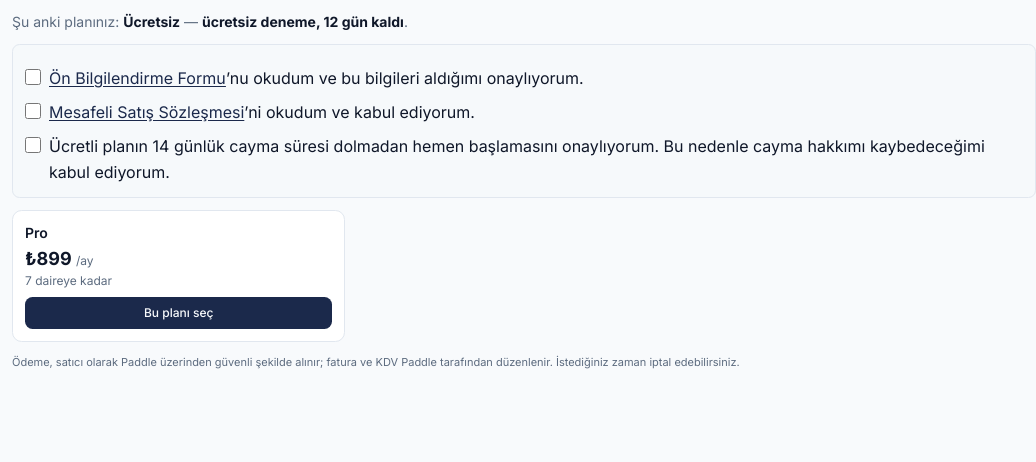
PaddlePlans — ödeme tamamlanınca anında doğrulama › 🚨 active → 'Planınız etkin.' + 'Panele dön' (/dashboard), sayfa BİR kez tazelenir, sorma durur, eski sinyal gitmez
The width and height of the screenshot is (1036, 462).
Click the 1st checkbox: x=33, y=77 [25,69,41,85]
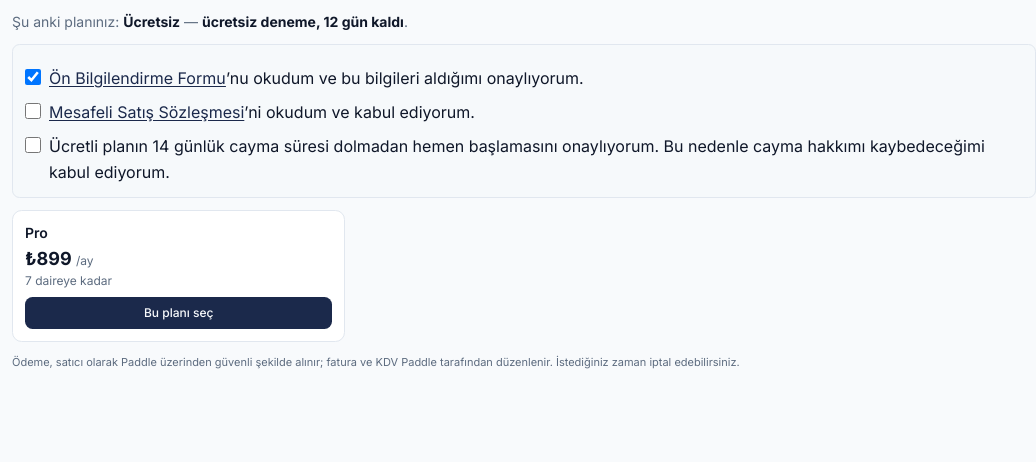
Click the checkbox labelled "Mesafeli Satış Sözleşmesi ’ni okudum ve kabul ediyorum.": x=33, y=111 [25,103,41,119]
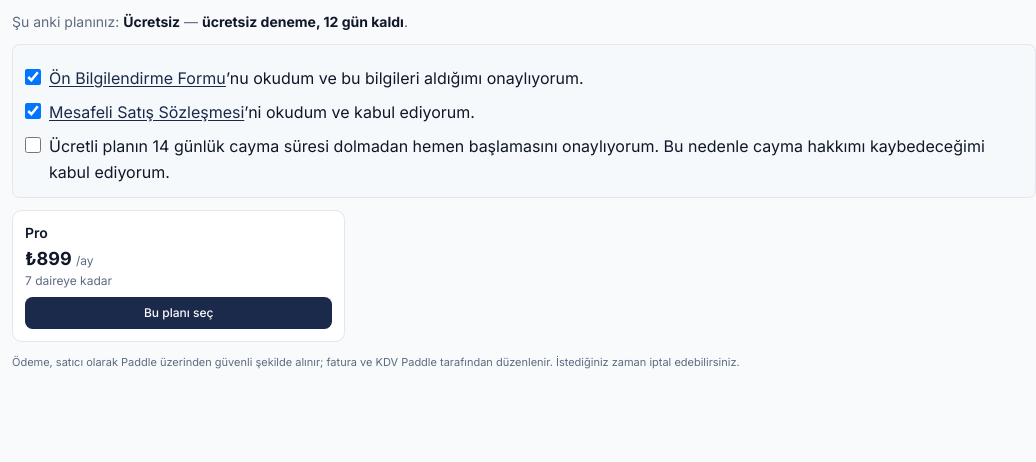
Click the 3rd checkbox: x=33, y=145 [25,137,41,153]
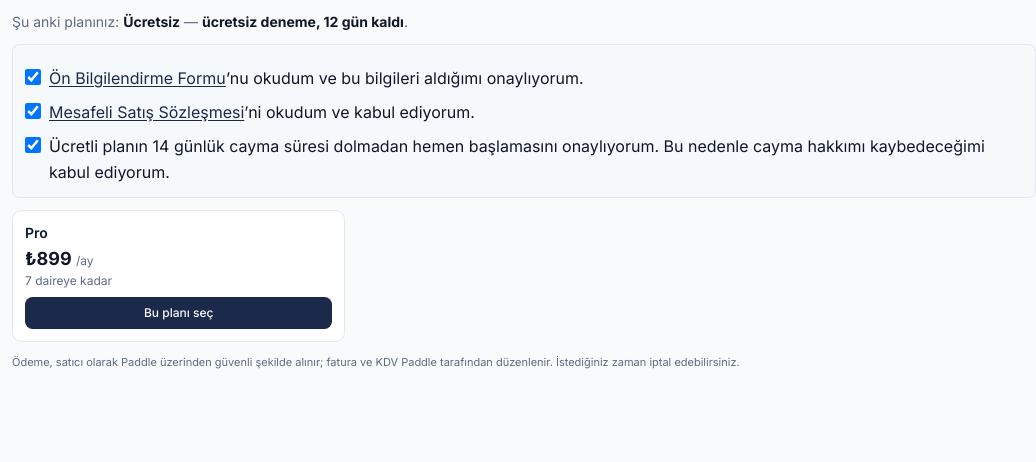
Click the button "Bu planı seç": x=179, y=313 [25,297,332,329]
Wait 300000 ms
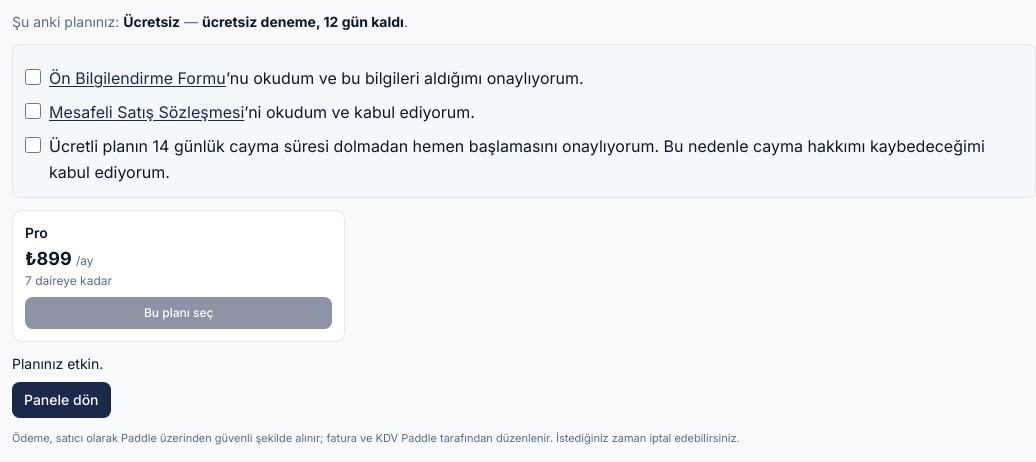
Now the text "Planınız etkin." is shown, box [12,355,103,372]
Now the button "Bu planı seç" is disabled, box [25,297,332,329]
